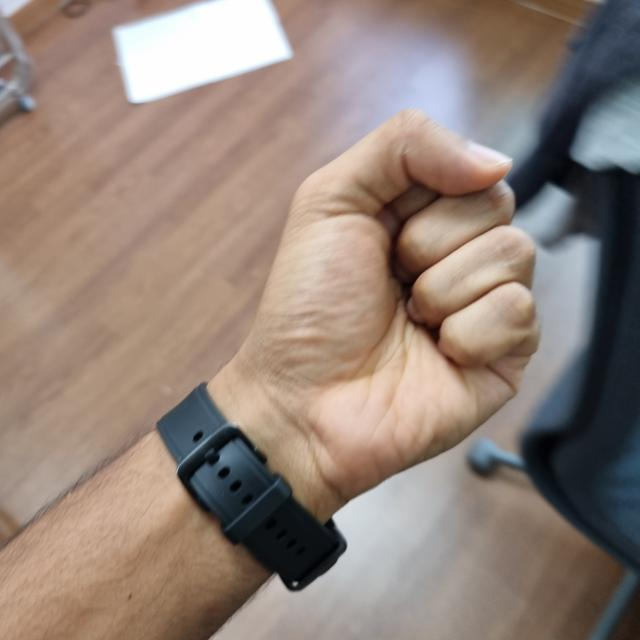Rock: (218, 124, 536, 504)
